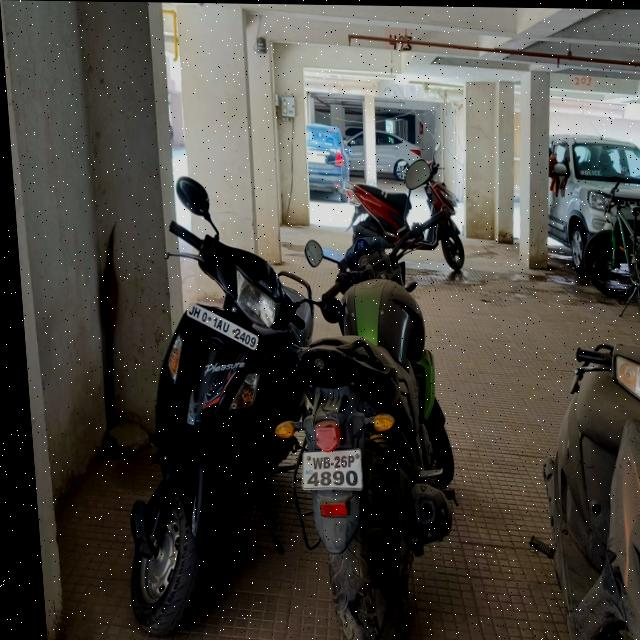bike: (89, 156, 329, 640), (278, 151, 473, 640), (503, 294, 640, 640), (342, 159, 480, 284)
car: (540, 125, 640, 270), (304, 111, 353, 207), (347, 127, 423, 184)
